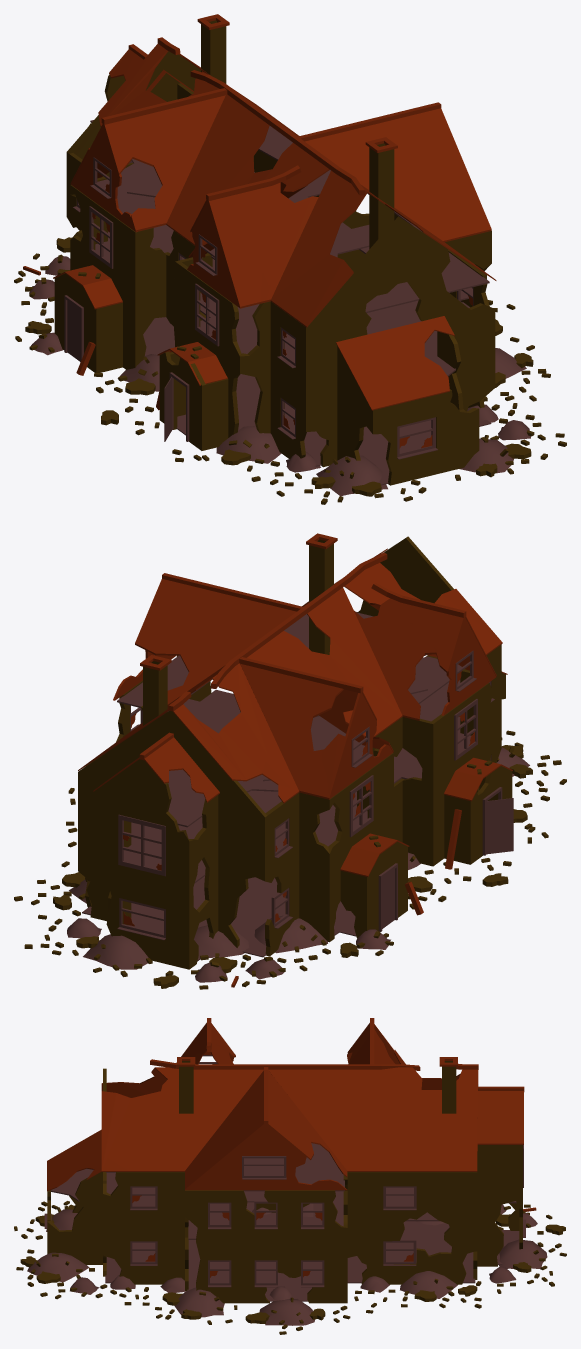
The model's file is House1.fbx.
3 views of the same model, one above another, from view 1: azimuth 30°, elevation 25°; view 2: azimuth 150°, elevation 25°; view 3: azimuth 270°, elevation 25° (orthographic). The views are drawn at different scales.
Visible parts, largest first — view 1: Poor House1.001; view 2: Poor House1.001; view 3: Poor House1.001.
Boxes of the visible parts, x1,y1,x2,y2 form: Poor House1.001: [14, 14, 566, 504]; Poor House1.001: [14, 533, 566, 989]; Poor House1.001: [14, 1018, 566, 1334].
Size of the model in its own units: 64.79 by 37.5 by 92.68.
